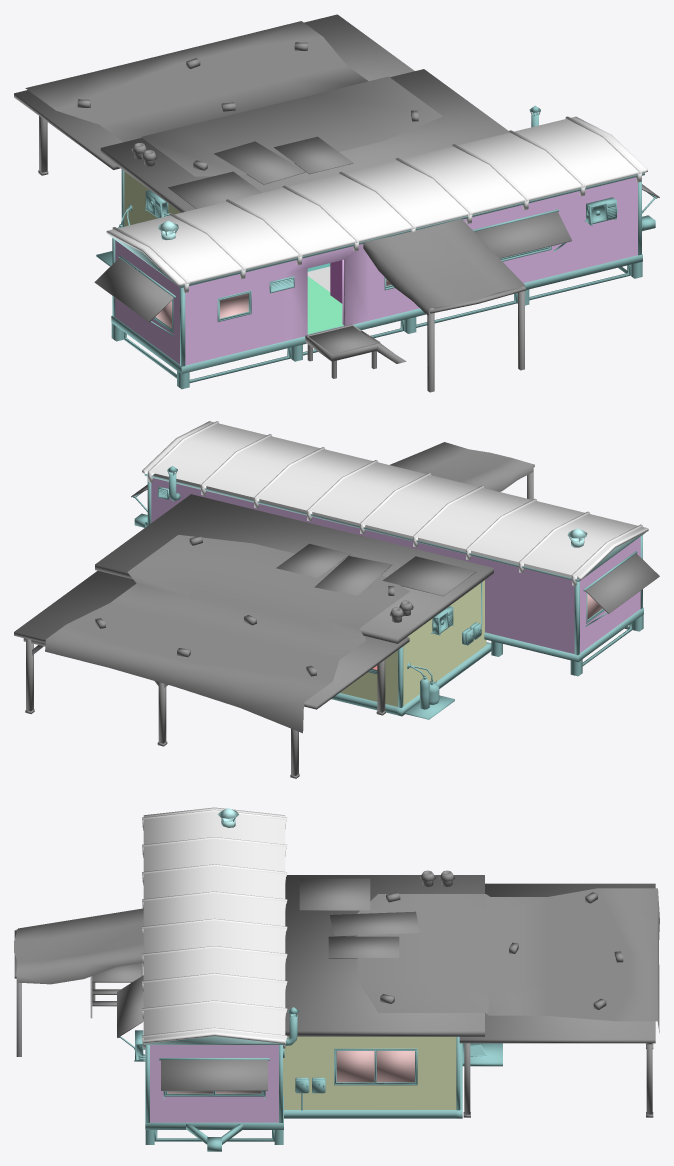
The model's file is SM_buildingTrailerHouse_02.gltf.
3 views of the same model, one above another, from view 1: azimuth 30°, elevation 25°; view 2: azimuth 150°, elevation 25°; view 3: azimuth 270°, elevation 25° (orthographic). The views are drawn at different scales.
Visible parts, largest first — view 1: SM_buildingTrailerHouse_02; view 2: SM_buildingTrailerHouse_02; view 3: SM_buildingTrailerHouse_02.
Part boxes in pixels (bbox=[...]): SM_buildingTrailerHouse_02: bbox=[14, 14, 659, 392]; SM_buildingTrailerHouse_02: bbox=[14, 421, 659, 778]; SM_buildingTrailerHouse_02: bbox=[14, 807, 659, 1151].
Size of the model in its own units: 18.74 by 4.42 by 20.04.
